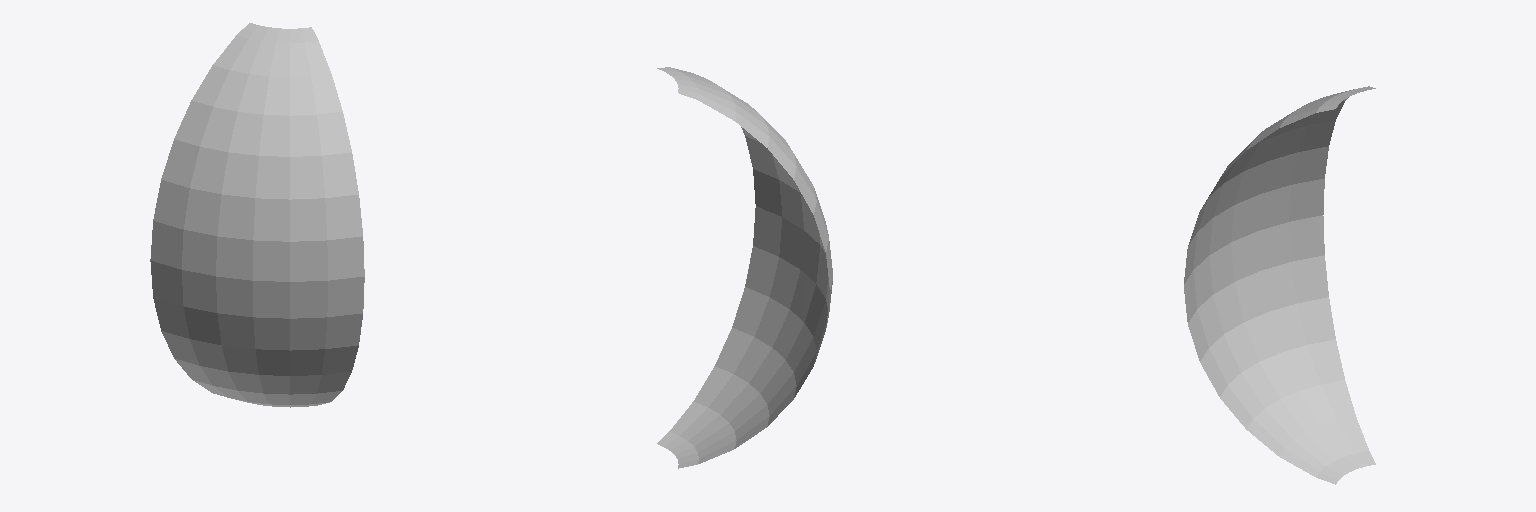
Rendered from ParteVermelha.obj.
3 views of the same model, side by side, from view 1: azimuth 30°, elevation 25°; view 2: azimuth 150°, elevation 25°; view 3: azimuth 270°, elevation 25° (orthographic).
Parts seen in each view (by area): view 1: BolaVermelha; view 2: BolaVermelha; view 3: BolaVermelha.
Part boxes in pixels (bbox=[...]): BolaVermelha: bbox=[150, 23, 364, 407]; BolaVermelha: bbox=[657, 67, 832, 468]; BolaVermelha: bbox=[1184, 86, 1375, 484].
Size of the model in its own units: 0.1413 by 0.3025 by 0.1407.